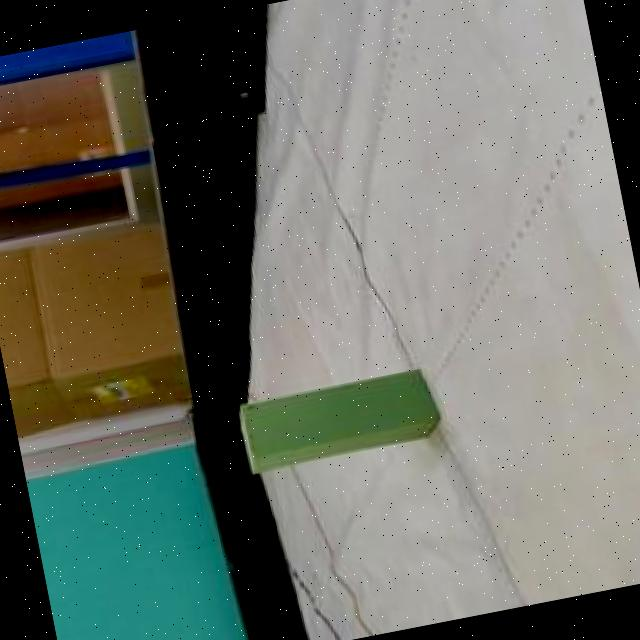greenbox: (232, 365, 445, 478)
